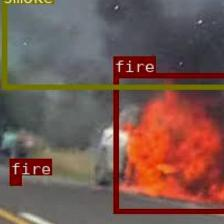fire: (112, 72, 224, 212), (9, 175, 20, 185)
smoke: (1, 0, 224, 89)
